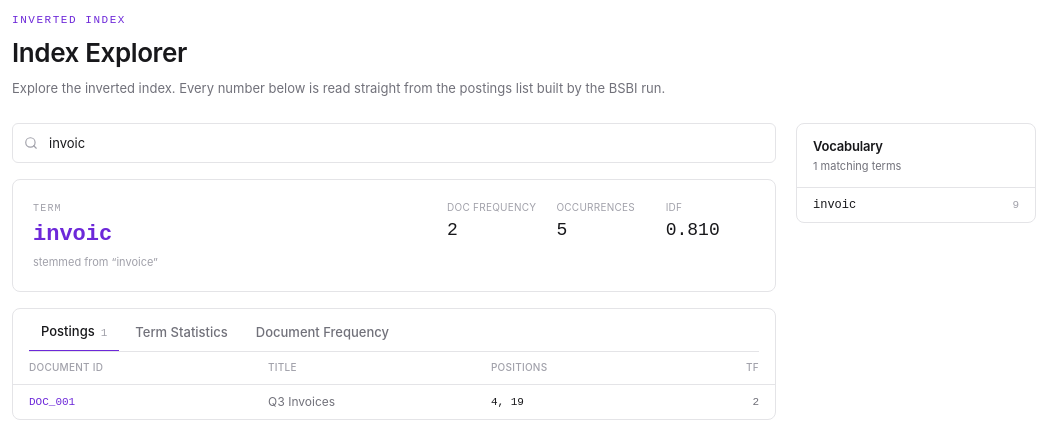
IndexExplorerPage on a corpus without the demo vocabulary › keeps the vocabulary panel populated when the term misses
expect the text "Q3 Invoices" is shown: met, box [252,384,475,420]
Replace the text in the field named "Term to inspect" with "zzz" at (394, 143), box [12,123,776,163]
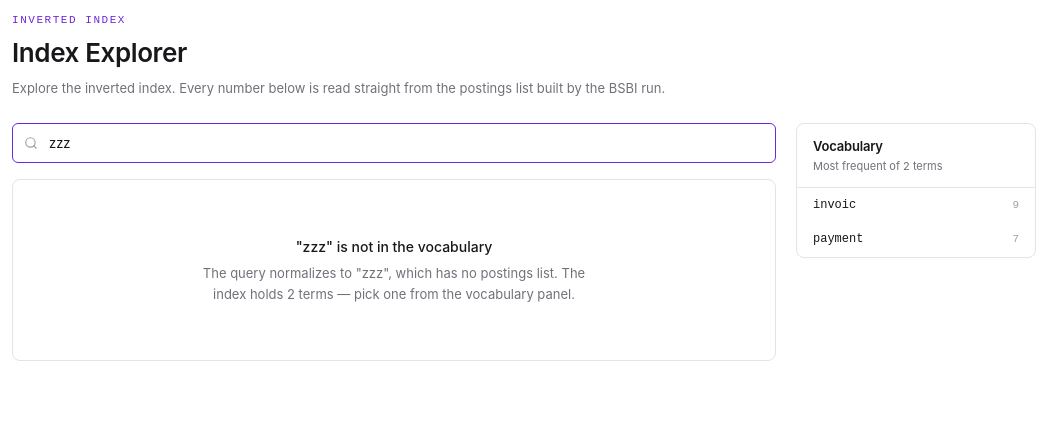
expect the text "\"zzz\" is not in the vocabulary" is shown: met, box [296,236,492,257]
expect the button "payment 7" is shown: met, box [797,222,1035,257]
expect the text "Most frequent of 2 terms" is shown: met, box [813,159,942,173]
